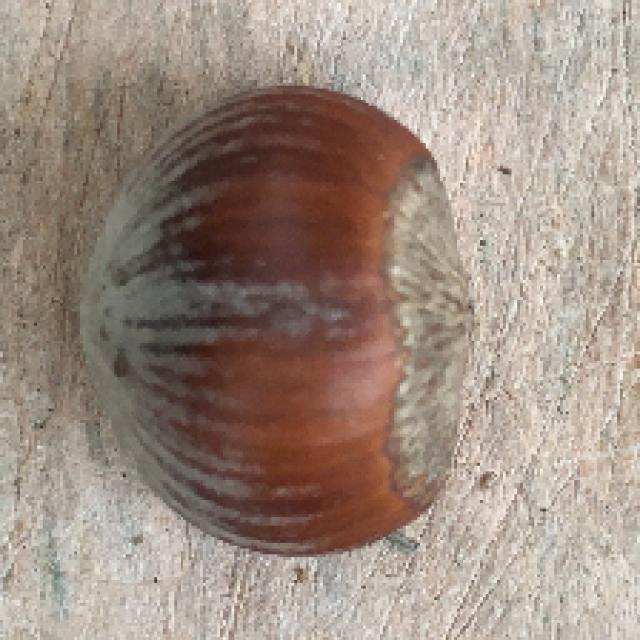qualityHazelnut: (79, 80, 475, 550)
